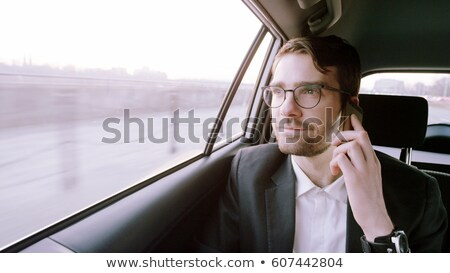phone: (332, 102, 369, 162)
talk: (268, 79, 382, 197)
